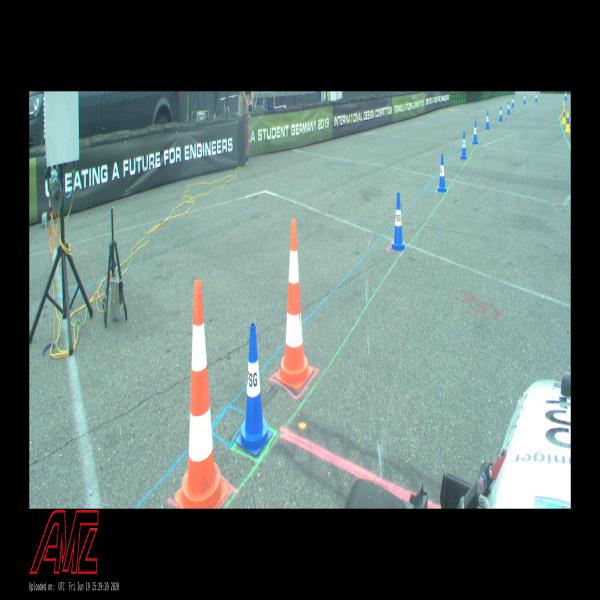blue_cone: (236, 320, 270, 458), (390, 192, 407, 251), (437, 153, 447, 193), (460, 131, 468, 159), (472, 121, 478, 144), (485, 111, 490, 129), (499, 106, 503, 121), (507, 101, 510, 115), (511, 96, 514, 107), (523, 92, 526, 103), (535, 92, 538, 102), (564, 92, 567, 100)
large_orange_cone: (169, 278, 231, 509), (278, 216, 311, 397)
yellow_cone: (565, 112, 571, 132), (562, 108, 566, 124), (562, 102, 566, 115)
